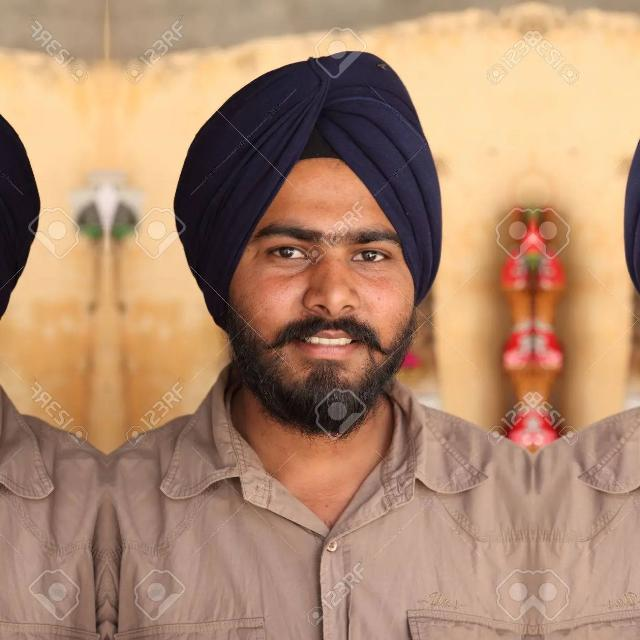person: (106, 23, 532, 640), (533, 23, 640, 640), (0, 23, 106, 640)
